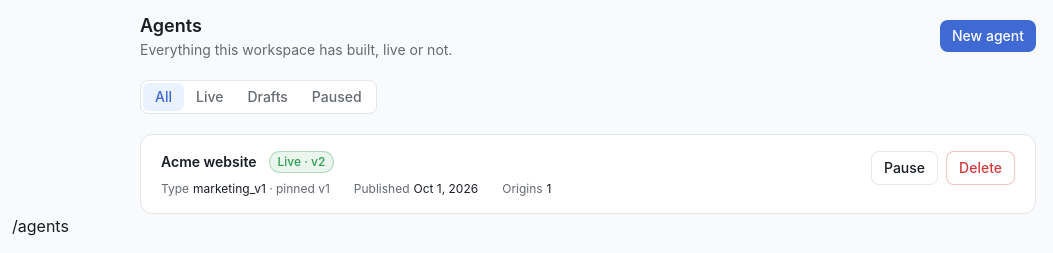
it: the agents list › filters through the URL, and asks the server for that status
Expected: the link "Acme website" is shown, [161, 152, 256, 172]
Click the button "Paused" at (337, 97), box [300, 83, 374, 111]
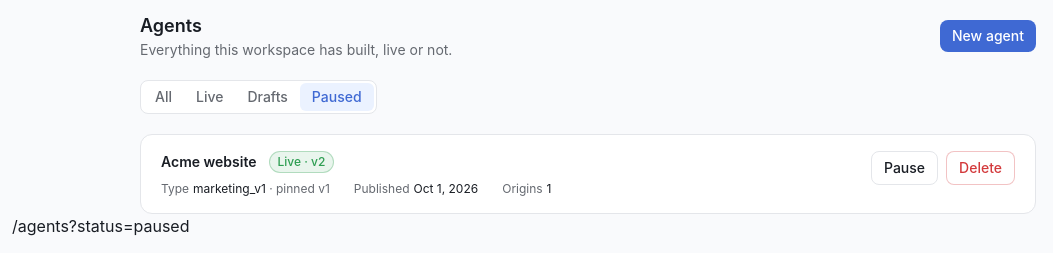
Now the text with test id "location" reads "/agents?status=paused", box [12, 216, 190, 236]
